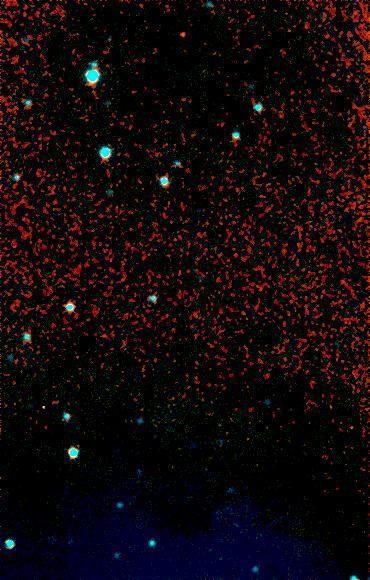star: (170, 19, 200, 49)
